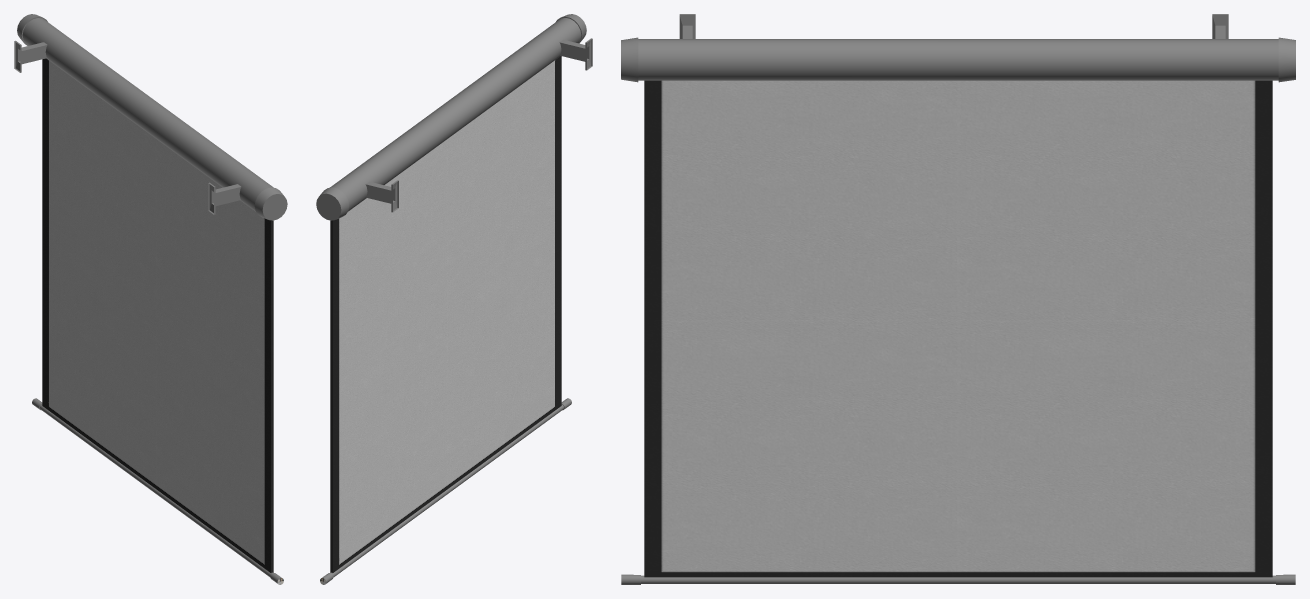
Rendered from ProjectorScreen01.FBX.
3 renders of one model, left to right at view 1: azimuth 30°, elevation 25°; view 2: azimuth 150°, elevation 25°; view 3: azimuth 270°, elevation 25°, orthographic. The views are drawn at different scales.
Visible parts, largest first — view 1: ProjectorScreen001; view 2: ProjectorScreen001; view 3: ProjectorScreen001.
Boxes of the visible parts, x1,y1,x2,y2 form: ProjectorScreen001: [14, 14, 287, 584]; ProjectorScreen001: [316, 14, 592, 584]; ProjectorScreen001: [621, 14, 1295, 584].
Bounding box in the file's own units: 40.85 × 285 × 322.
